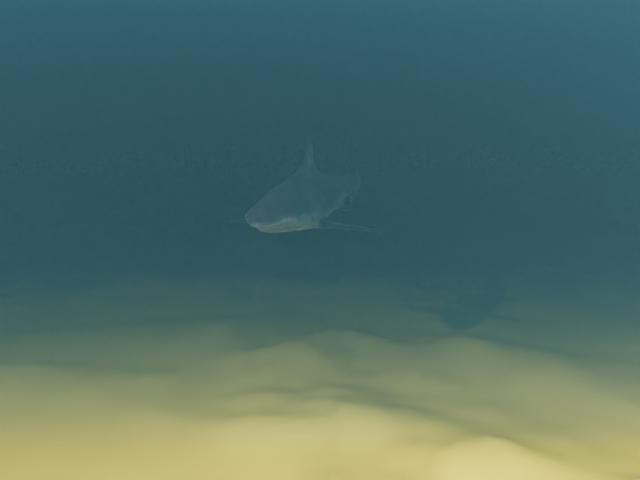Carribean Shark.001: (228, 134, 389, 233)
